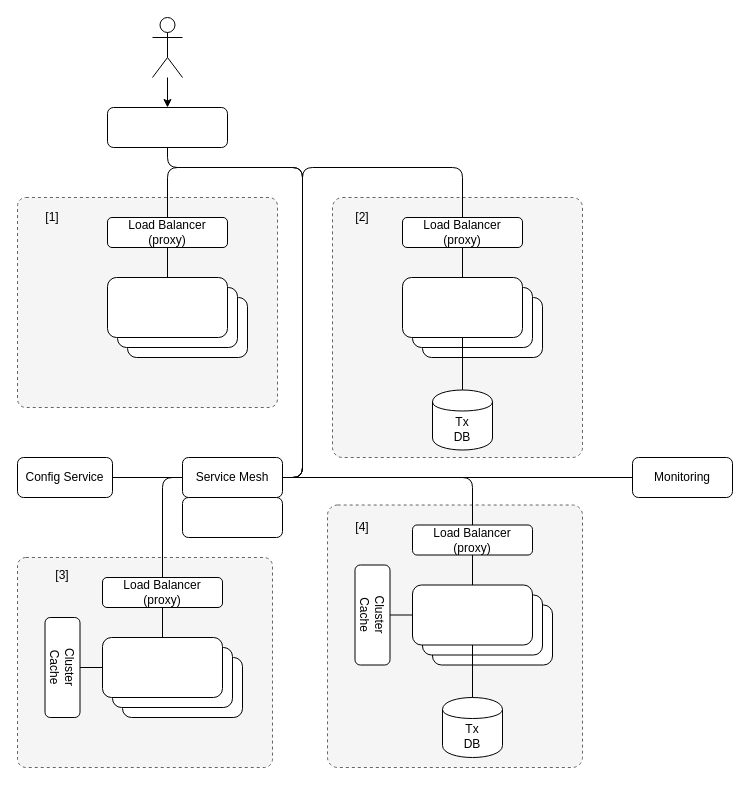
Image size: 750x785. Some labels were removed from this diagram. The shapes that lost their labels are listed below. From the top down, each one's centre as x and y in pixels, then its label:
At point (167, 127): "API Gateway".
At point (167, 307): "Stateless Service".
At point (462, 307): "Stateful Service (DB - holds Tx state)".
At point (232, 517): "Message Broker".
At point (472, 614): "Stateful Cluster (DB - holds Tx state)".
At point (162, 667): "Stateful Cluster".
